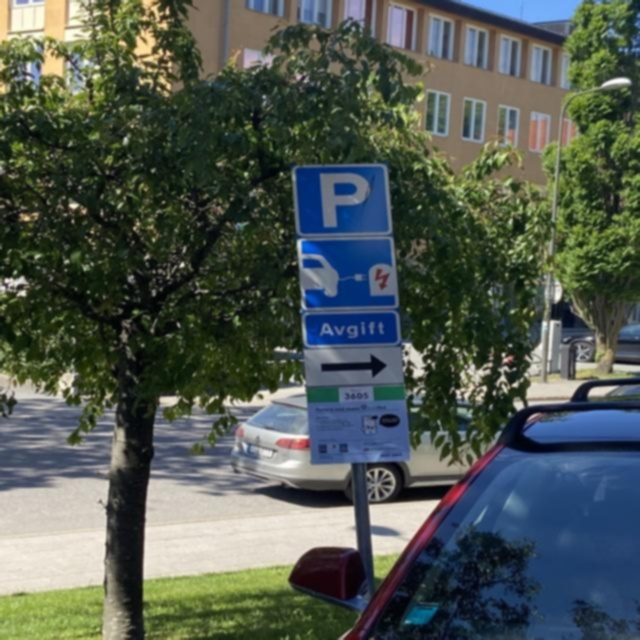P-skylt: (291, 166, 392, 236)
